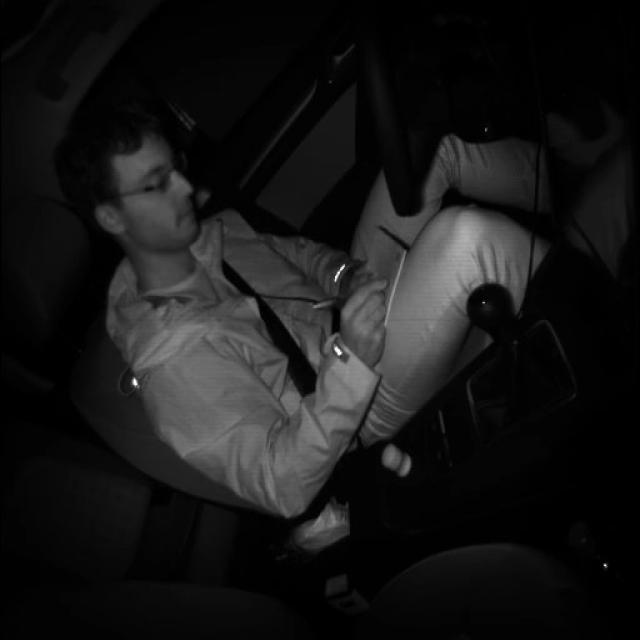pen: (313, 281, 387, 311)
